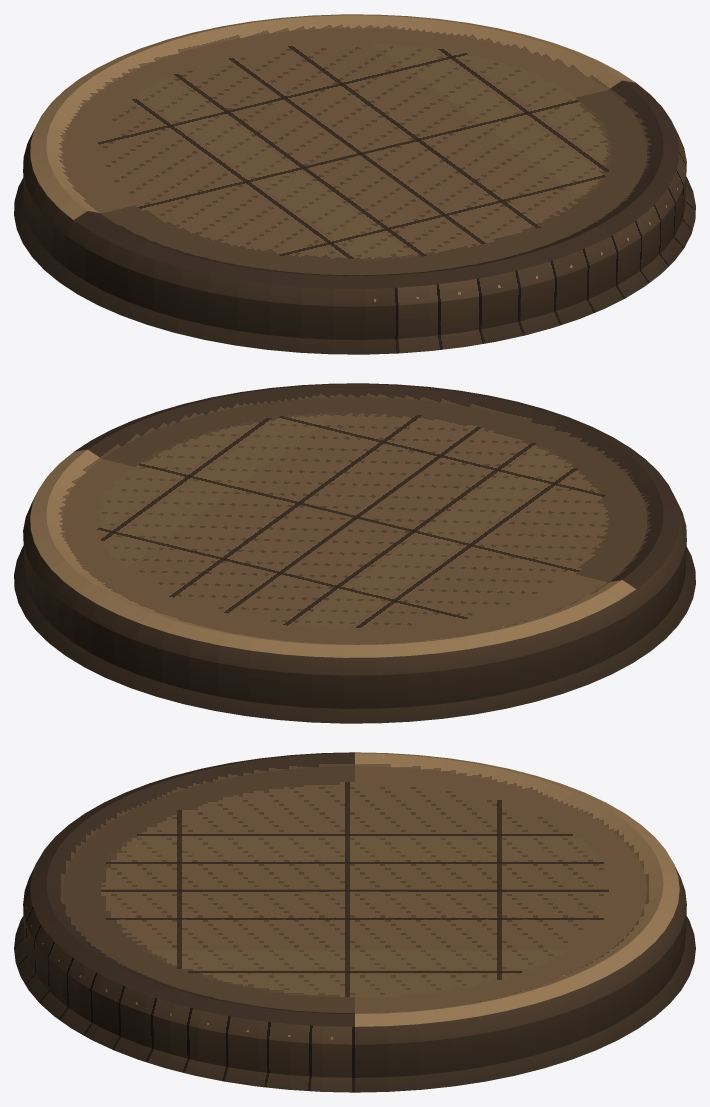
File: platform_wood.glb
The picture shows the model from 3 angles, top to bottom: view 1: azimuth 30°, elevation 25°; view 2: azimuth 150°, elevation 25°; view 3: azimuth 270°, elevation 25°; orthographic projection.
Visible parts, largest first — view 1: platform_wood; view 2: platform_wood; view 3: platform_wood.
Boxes of the visible parts, box(x1,y1,x2,y2) form: platform_wood: box(14, 14, 695, 354); platform_wood: box(14, 383, 695, 723); platform_wood: box(14, 752, 695, 1092).
Size of the model in its own units: 2.1 by 0.22 by 2.1.
Materials: 2 (2 with a texture image).
